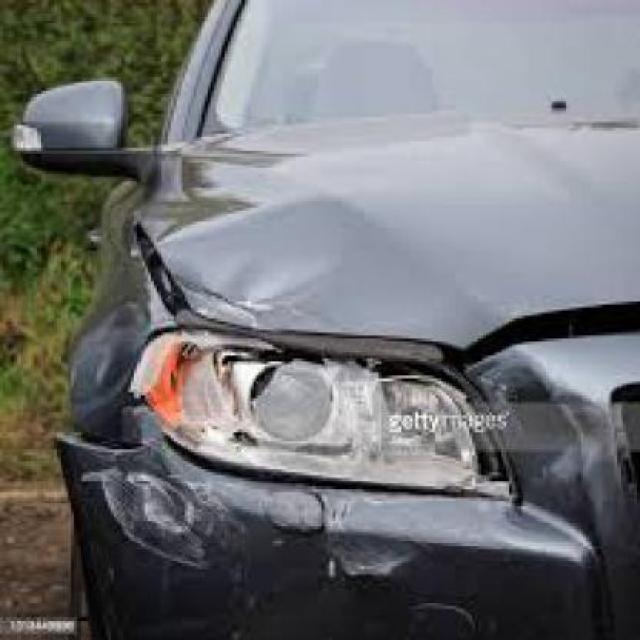damaged-front-bumper: (56, 440, 635, 638)
